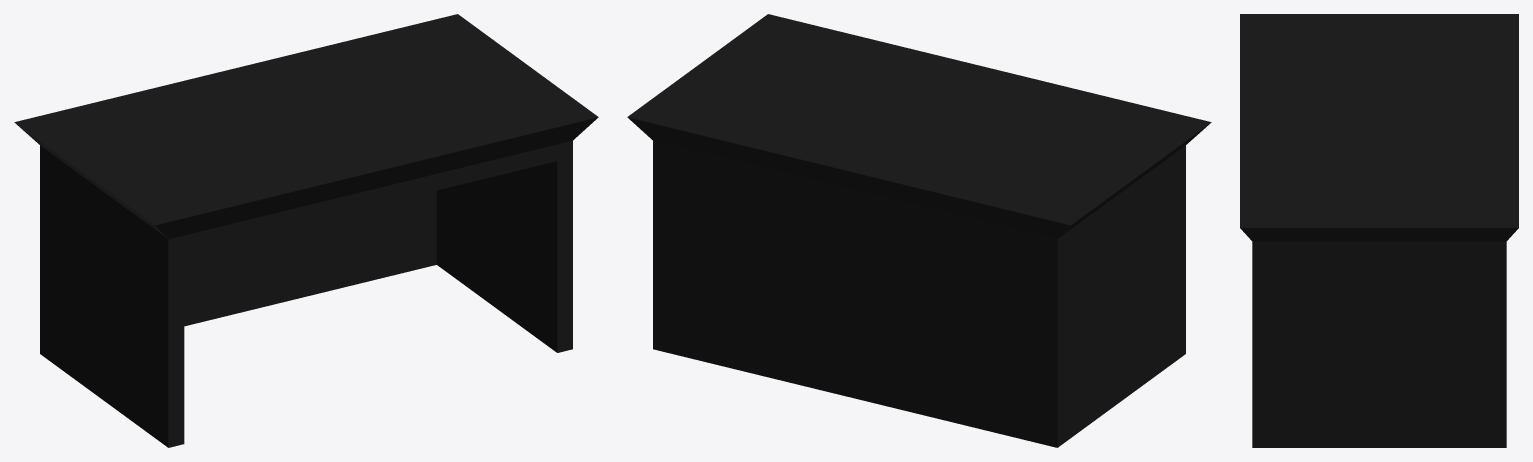
The model's file is Itr_Wardrobe2_Body3_03.FBX.
The picture shows the model from 3 angles, left to right: view 1: azimuth 30°, elevation 25°; view 2: azimuth 150°, elevation 25°; view 3: azimuth 270°, elevation 25°; orthographic projection.
Visible parts, largest first — view 1: Itr_Wardrobe2_Body3_03; view 2: Itr_Wardrobe2_Body3_03; view 3: Itr_Wardrobe2_Body3_03.
Boxes of the visible parts, x1=… form: Itr_Wardrobe2_Body3_03: x1=14, y1=14, x2=598, y2=447; Itr_Wardrobe2_Body3_03: x1=627, y1=14, x2=1211, y2=447; Itr_Wardrobe2_Body3_03: x1=1240, y1=14, x2=1518, y2=447.
Size of the model in its own units: 42.93 by 21.43 by 23.62.
